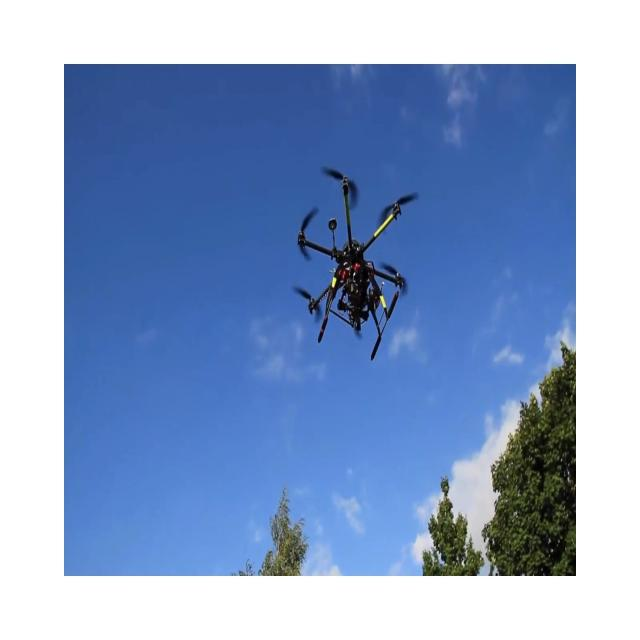drone: (293, 165, 419, 361)
